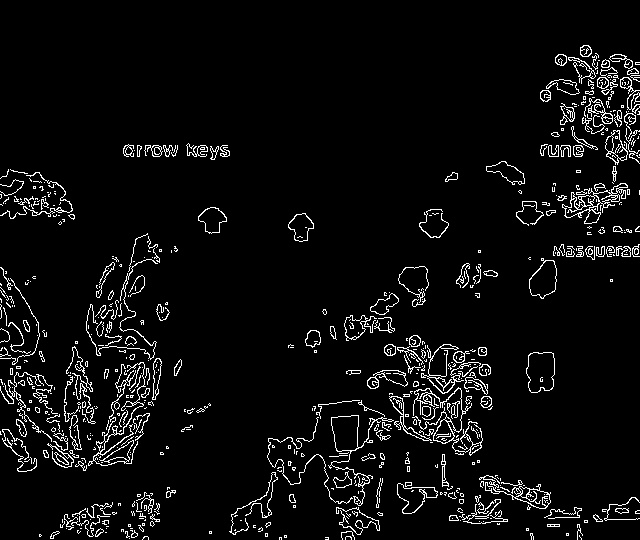down: (409, 203, 453, 251), (510, 195, 549, 236)
up: (280, 201, 327, 251), (189, 197, 232, 245)
